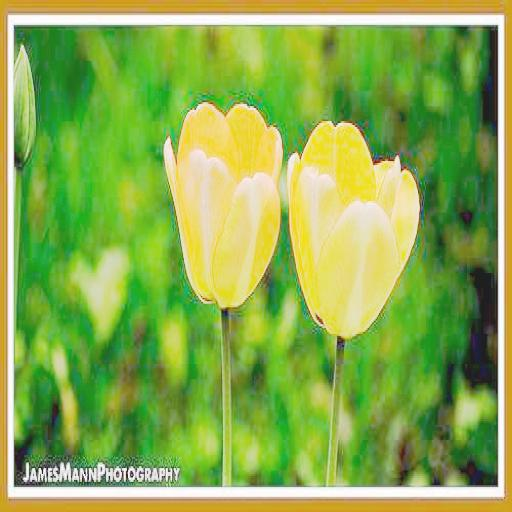tulip: (287, 118, 422, 334), (165, 97, 280, 309)
